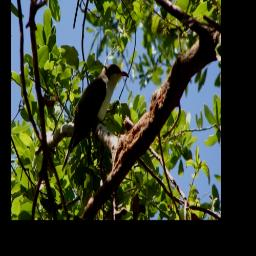Cuckoo: (63, 64, 130, 172)
